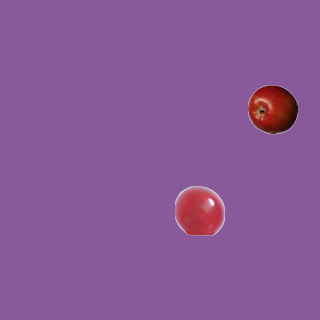Apple Braeburn: (247, 84, 297, 134)
Redcurrant: (174, 185, 224, 235)
